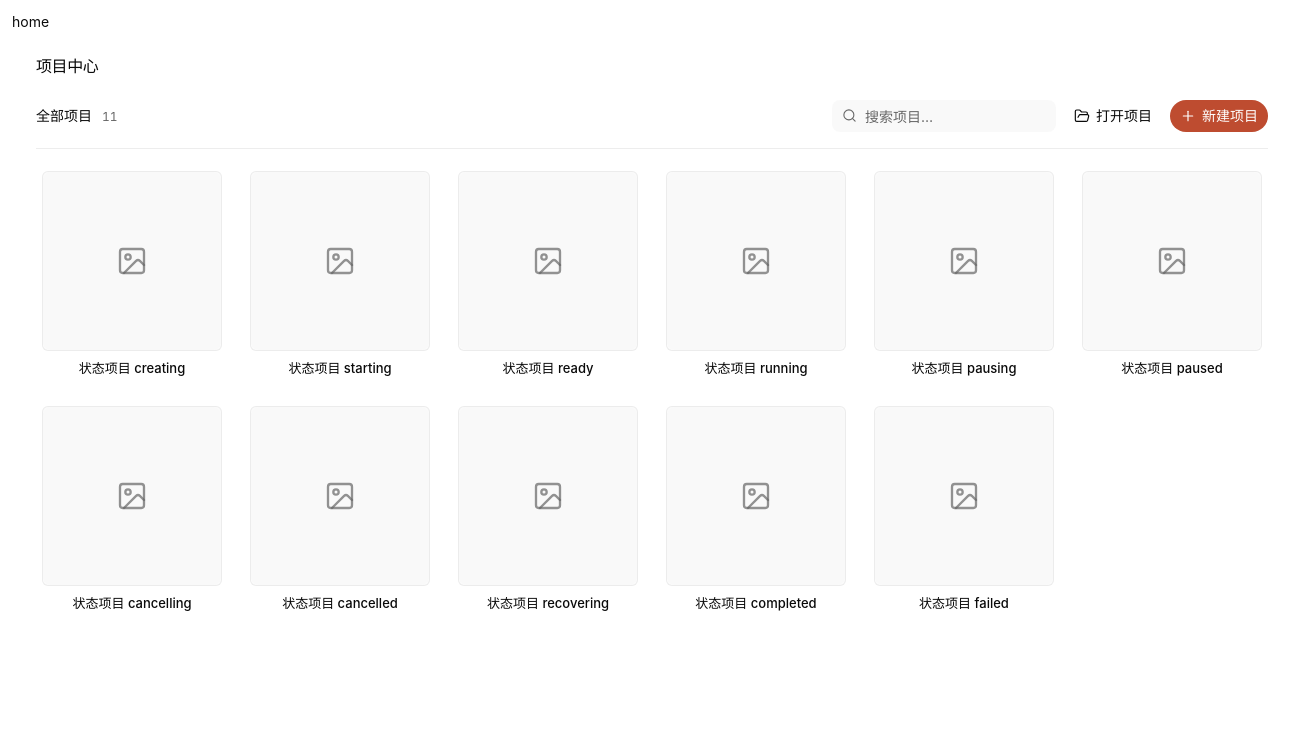
Test: HomePage › keeps every lifecycle state searchable in original order without status controls
The width and height of the screenshot is (1292, 732).
Expected: the text named "本机项目记录" reads "11", [102,109,118,124]
Step 1. Type "/captures/paused" into the field named "搜索项目名称或路径" → (944,116), box [832,100,1056,132]
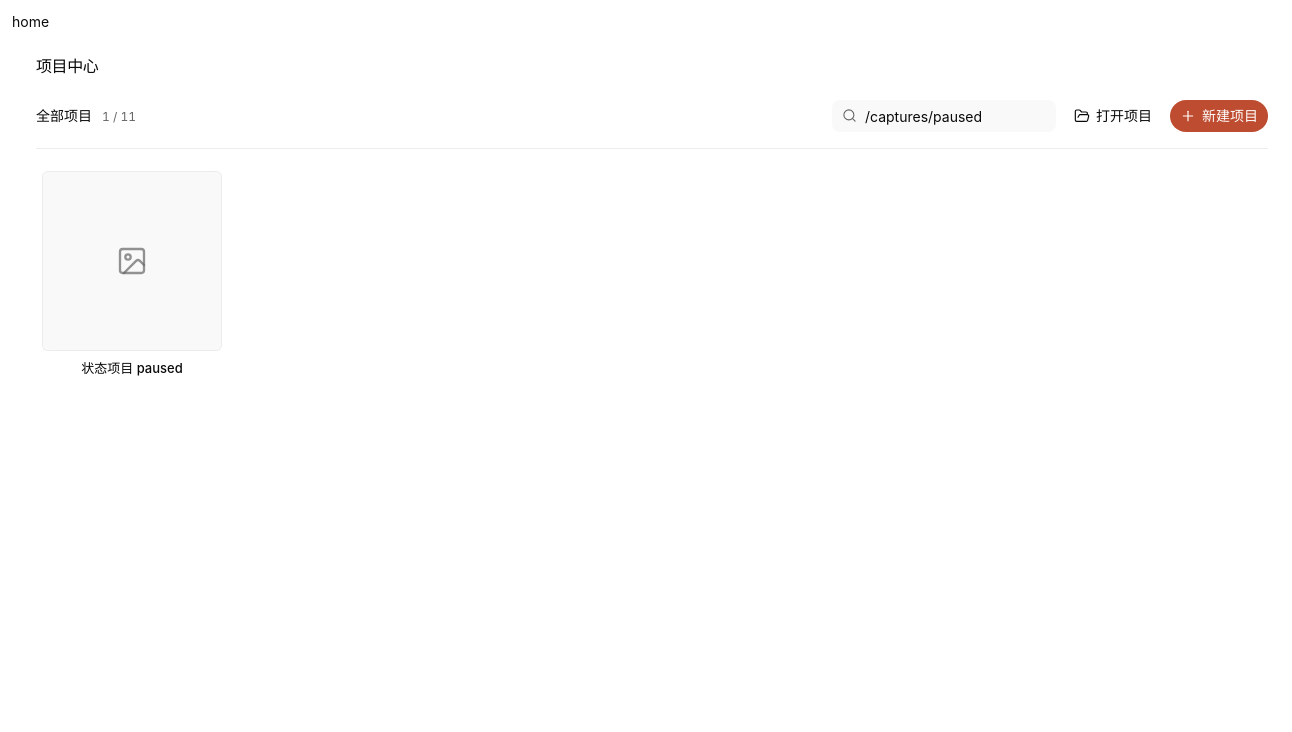
Expected: the text named "本机项目记录" reads "1 / 11", [102,109,136,125]
Step 2. Replace the text in the field named "搜索项目名称或路径" with "不存在的场景" → (944,116), box [832,100,1056,132]
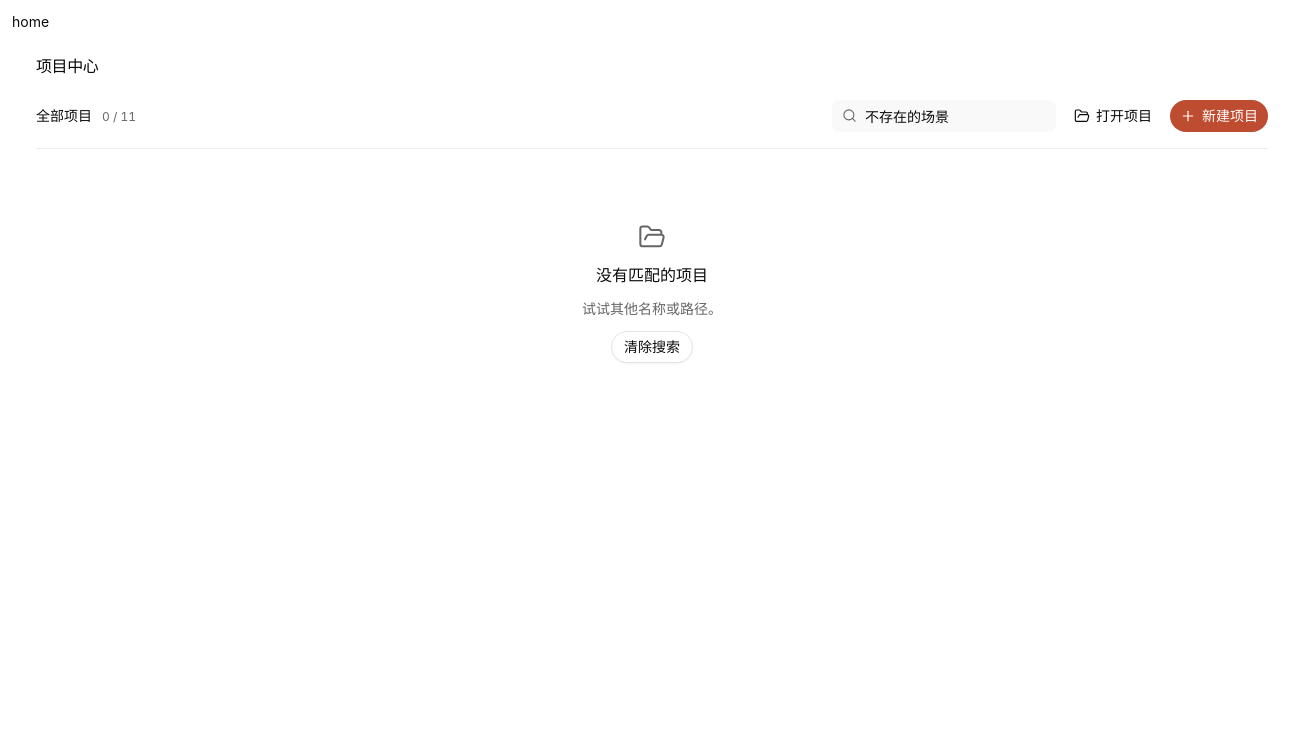
Expected: the heading "没有匹配的项目" is shown, [596,262,708,286]
Step 3. Click the button "清除搜索" → (652,346), box [611,330,693,362]
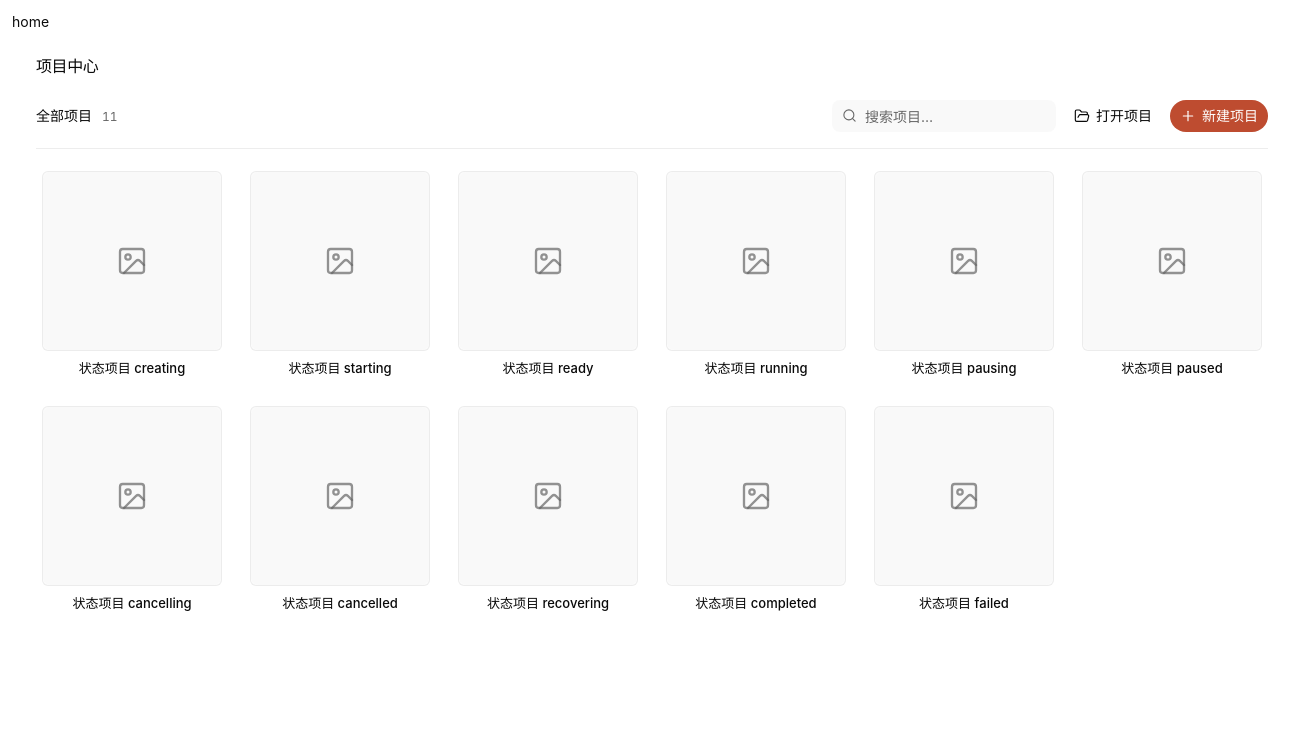
Expected: the text named "本机项目记录" reads "11", [102,109,118,124]
